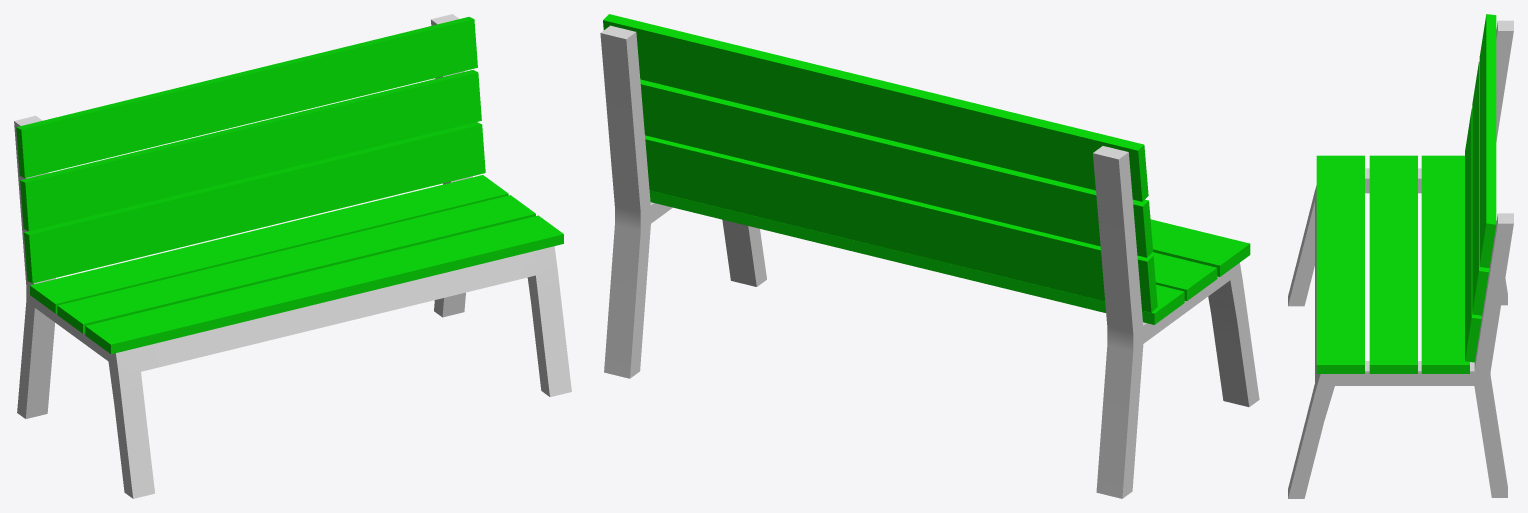
The model's file is Park Bench.fbx.
The picture shows the model from 3 angles, left to right: view 1: azimuth 30°, elevation 25°; view 2: azimuth 150°, elevation 25°; view 3: azimuth 270°, elevation 25°; orthographic projection. The views are drawn at different scales.
Visible parts, largest first — view 1: pCube6, pCube7, pCube5, pCube1, pCube2, pCube3, pCube4; view 2: pCube1, pCube7, pCube6, pCube5, pCube4, pCube2, pCube3; view 3: pCube1, pCube2, pCube3, pCube4, pCube7, pCube6, pCube5.
Part boxes in pixels (x1,y1,x2,y2): pCube6: (20, 70, 481, 231); pCube7: (16, 17, 477, 177); pCube5: (24, 122, 485, 283); pCube1: (14, 14, 571, 498); pCube2: (85, 215, 563, 354); pCube3: (57, 195, 535, 333); pCube4: (30, 175, 508, 313); pCube1: (600, 25, 1259, 498); pCube7: (603, 14, 1148, 201); pCube6: (640, 79, 1153, 257); pCube5: (645, 135, 1157, 312); pCube4: (649, 190, 1184, 324); pCube2: (1150, 219, 1250, 276); pCube3: (1150, 252, 1217, 300); pCube1: (1288, 20, 1513, 498); pCube2: (1316, 155, 1364, 373); pCube3: (1369, 155, 1417, 373); pCube4: (1421, 155, 1469, 373); pCube7: (1479, 14, 1496, 267); pCube6: (1472, 61, 1488, 315); pCube5: (1465, 108, 1481, 362).
Size of the model in its own units: 279 by 173 by 127.
